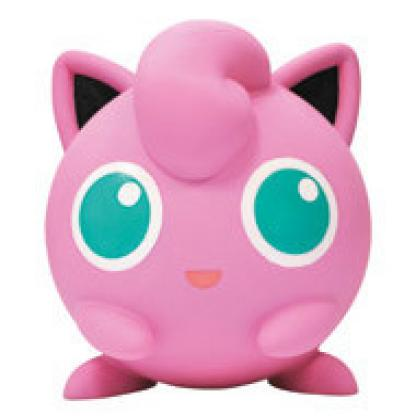Jigglypuff: (43, 18, 381, 406)
